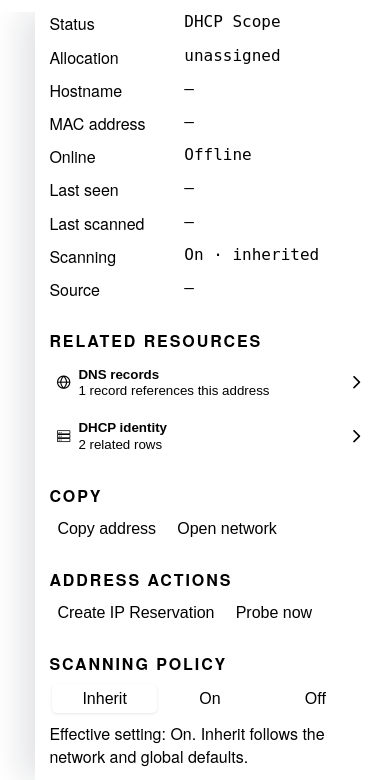
Test: workspace address details panel › updates the explicit scan policy and probes the address
(page scrolled)
Click the button "Off" at (315, 698), box 263,684 -> 368,713
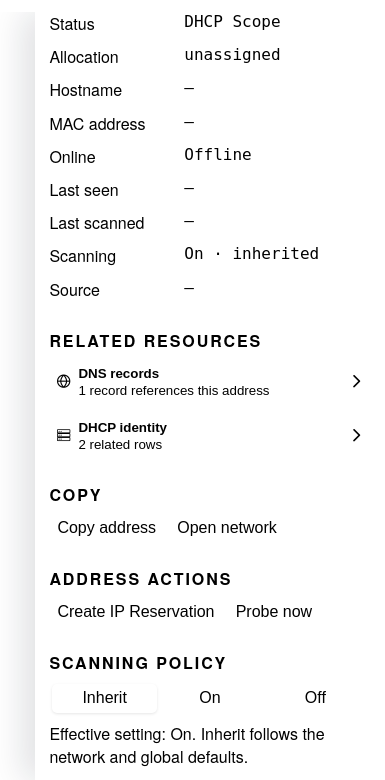
Click the button "Probe now" at (274, 612), box 228,597 -> 320,628
(page scrolled)
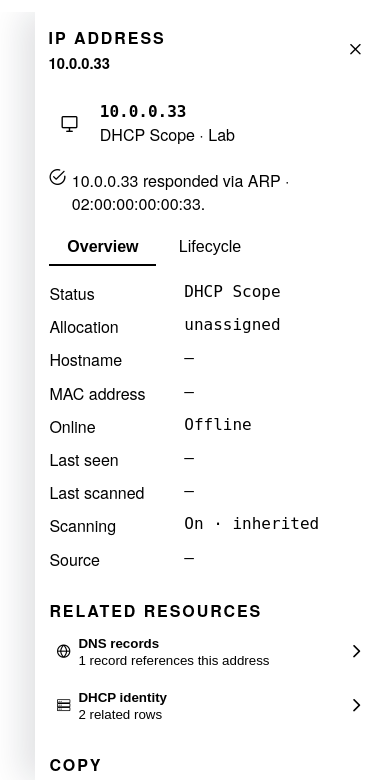
Expected: the message with class "feedback" shows "responded via ARP", 72,169 -> 290,215
